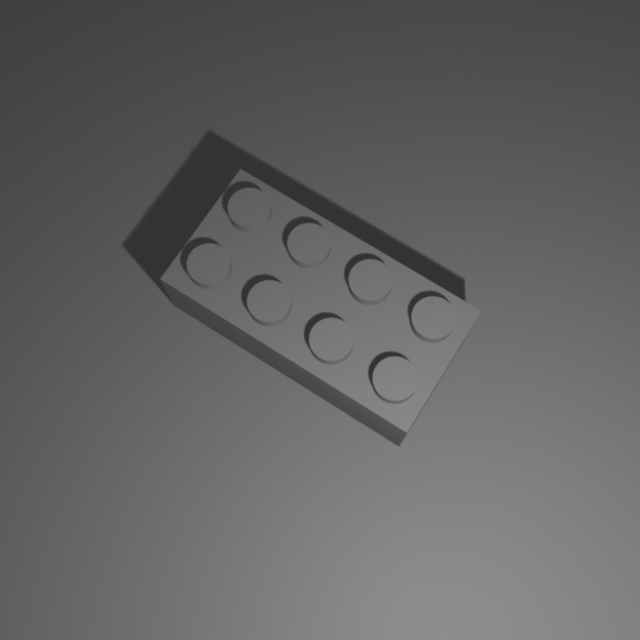lego_2x4: (158, 163, 484, 447)
